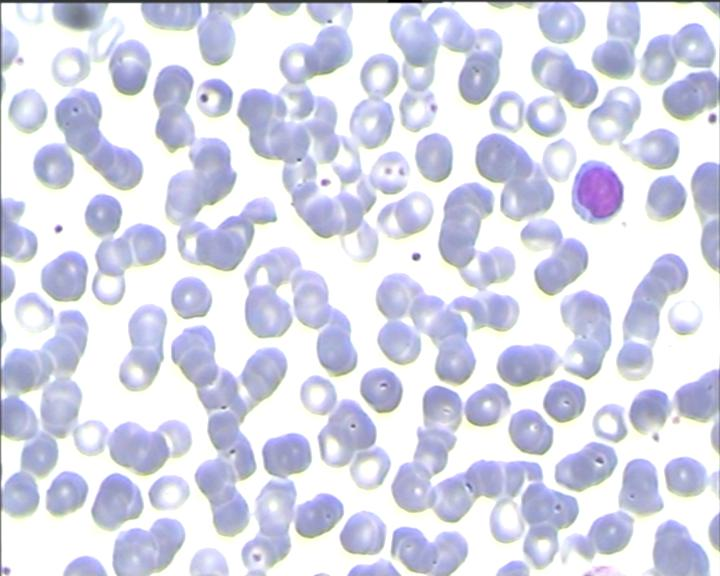lymp: (571, 158, 630, 231)
